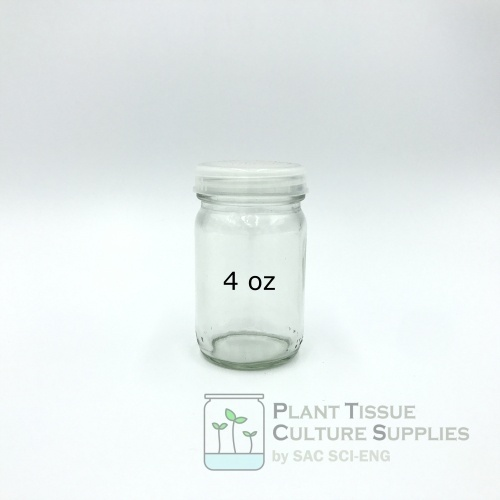glass_bottle: (179, 147, 321, 381)
